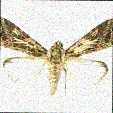Spodoptera litura: (0, 16, 112, 102)
